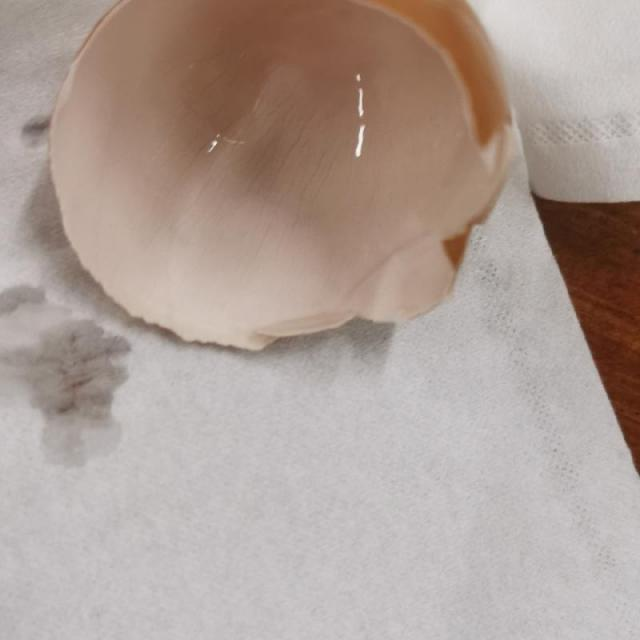egg shell: (47, 1, 514, 356)
